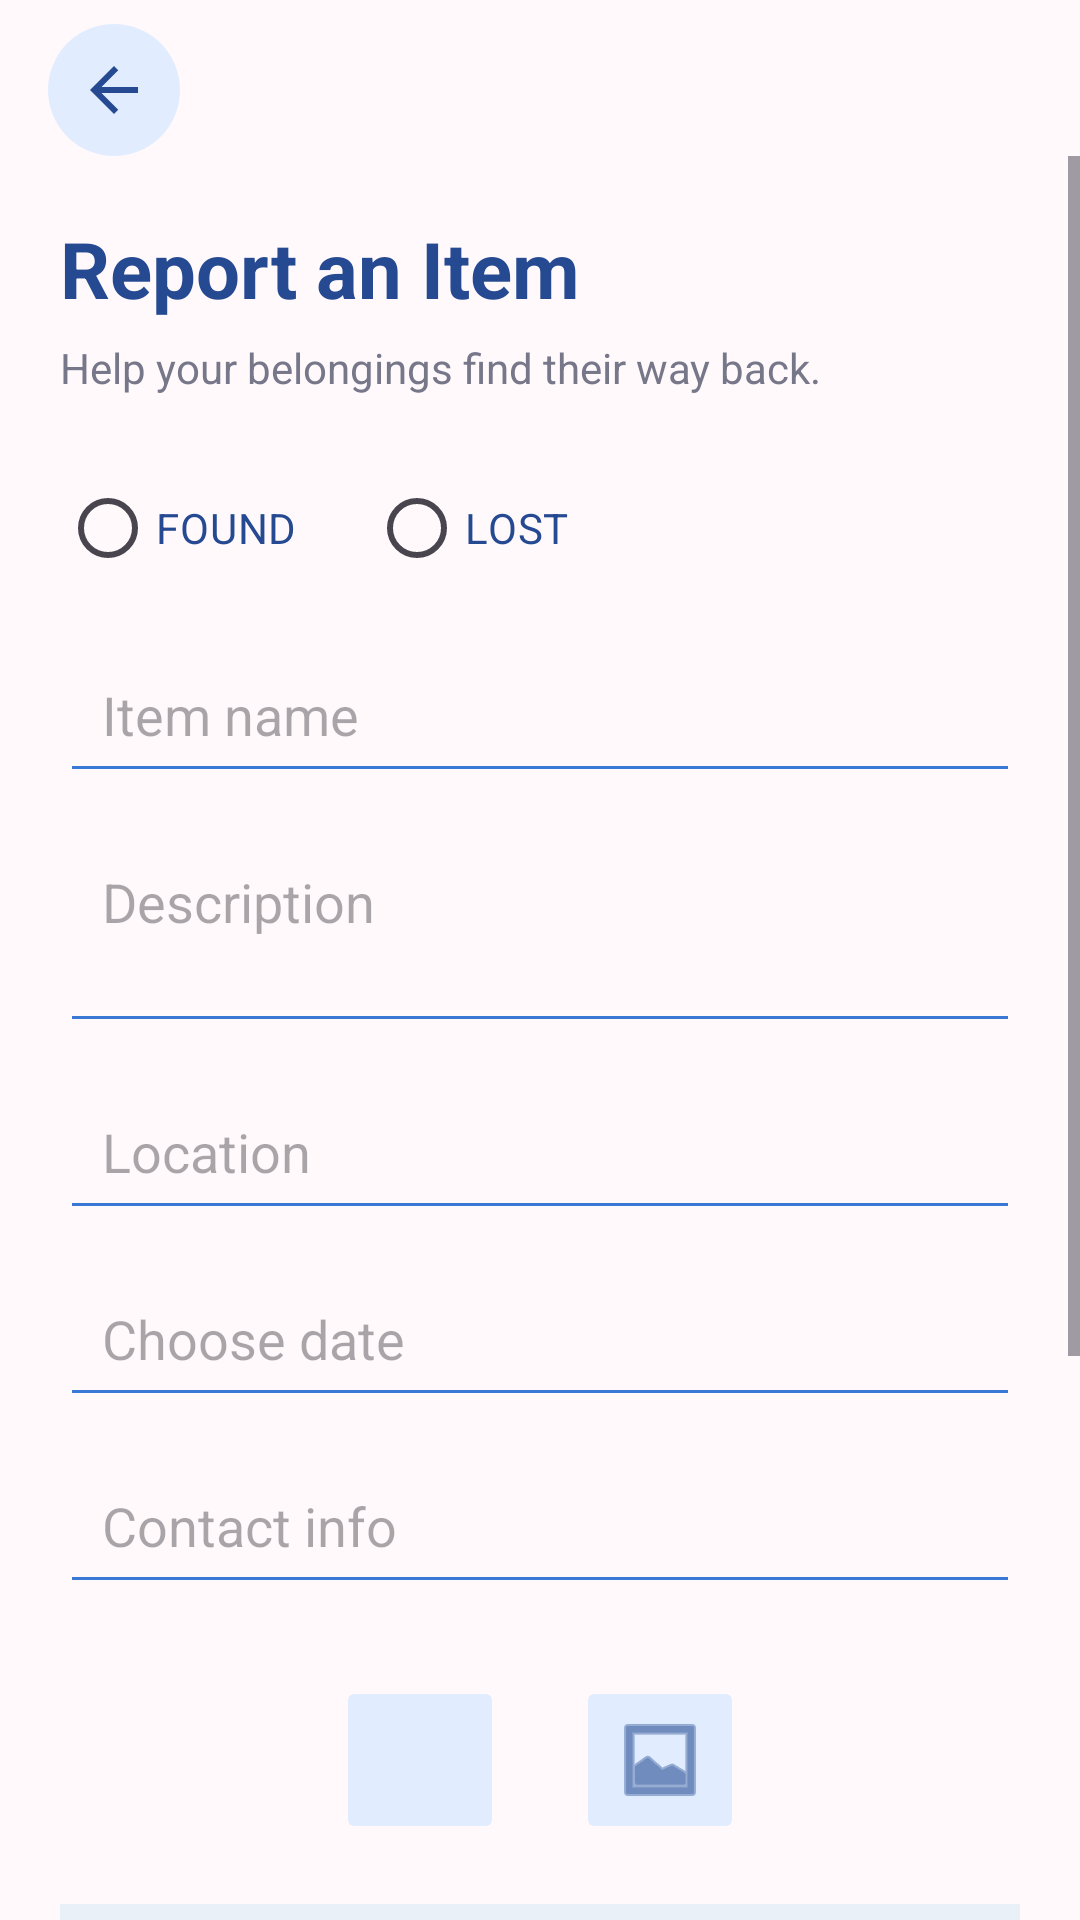

Where icons sit on this 1080×1920 app screen, as (x1, y1, x2, y2):
Back: (48, 24, 180, 156)
Choose from gallery: (588, 1694, 732, 1826)
